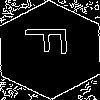F: (25, 25, 78, 57)
